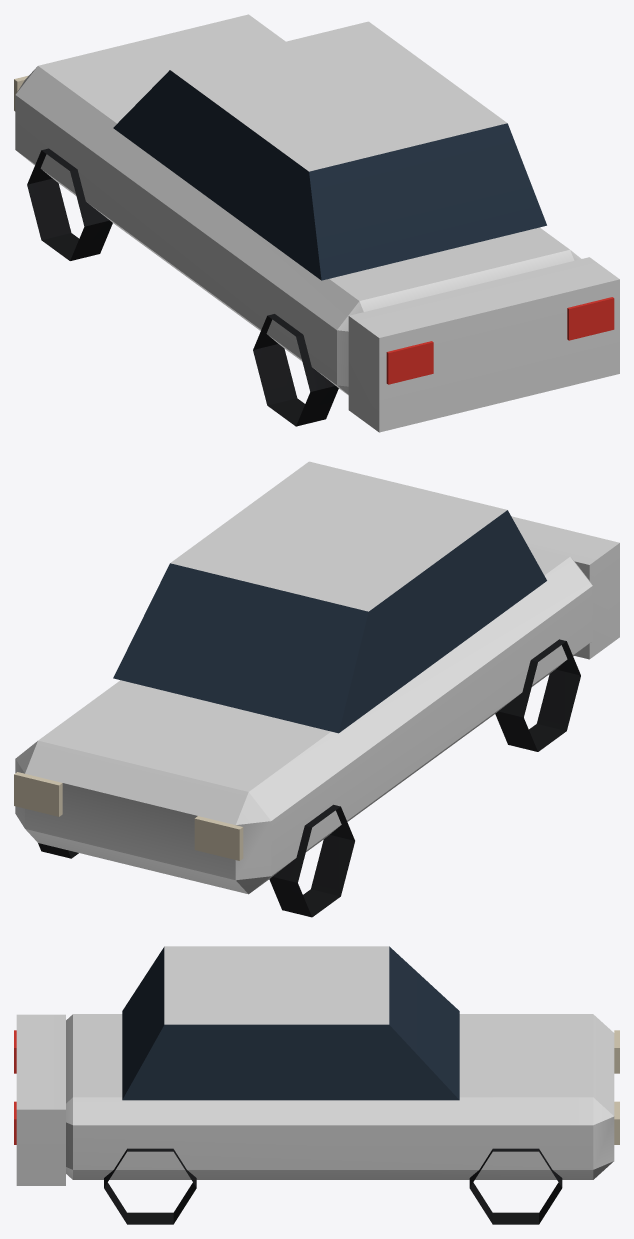
File: car.fbx
3 views of the same model, one above another, from view 1: azimuth 30°, elevation 25°; view 2: azimuth 150°, elevation 25°; view 3: azimuth 270°, elevation 25° (orthographic). The views are drawn at different scales.
Visible parts, largest first — view 1: car; view 2: car; view 3: car.
Part boxes in pixels (left/top/right/bottom): car: left=14, top=14, right=619, bottom=432; car: left=14, top=461, right=619, bottom=917; car: left=14, top=946, right=619, bottom=1224.
Size of the model in its own units: 1.8 by 1.46 by 4.31.
